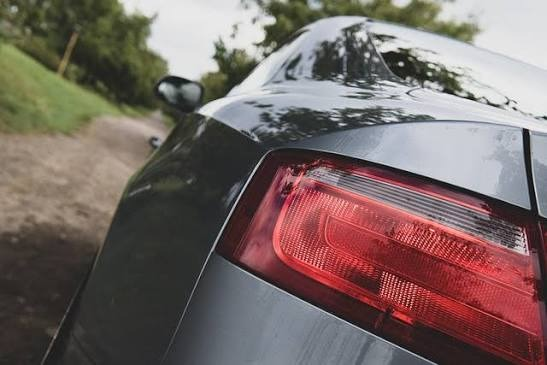car: (25, 16, 541, 363)
